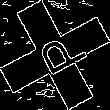P_SW: (24, 27, 86, 83)
